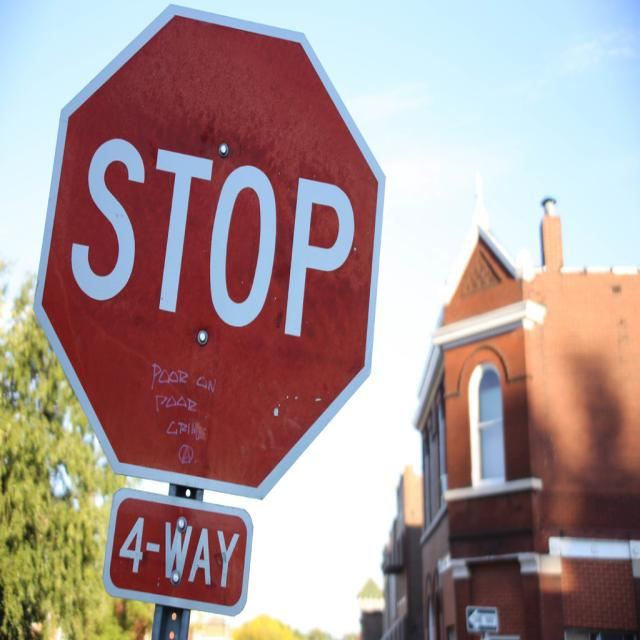Stop-sign: (32, 0, 385, 502)
